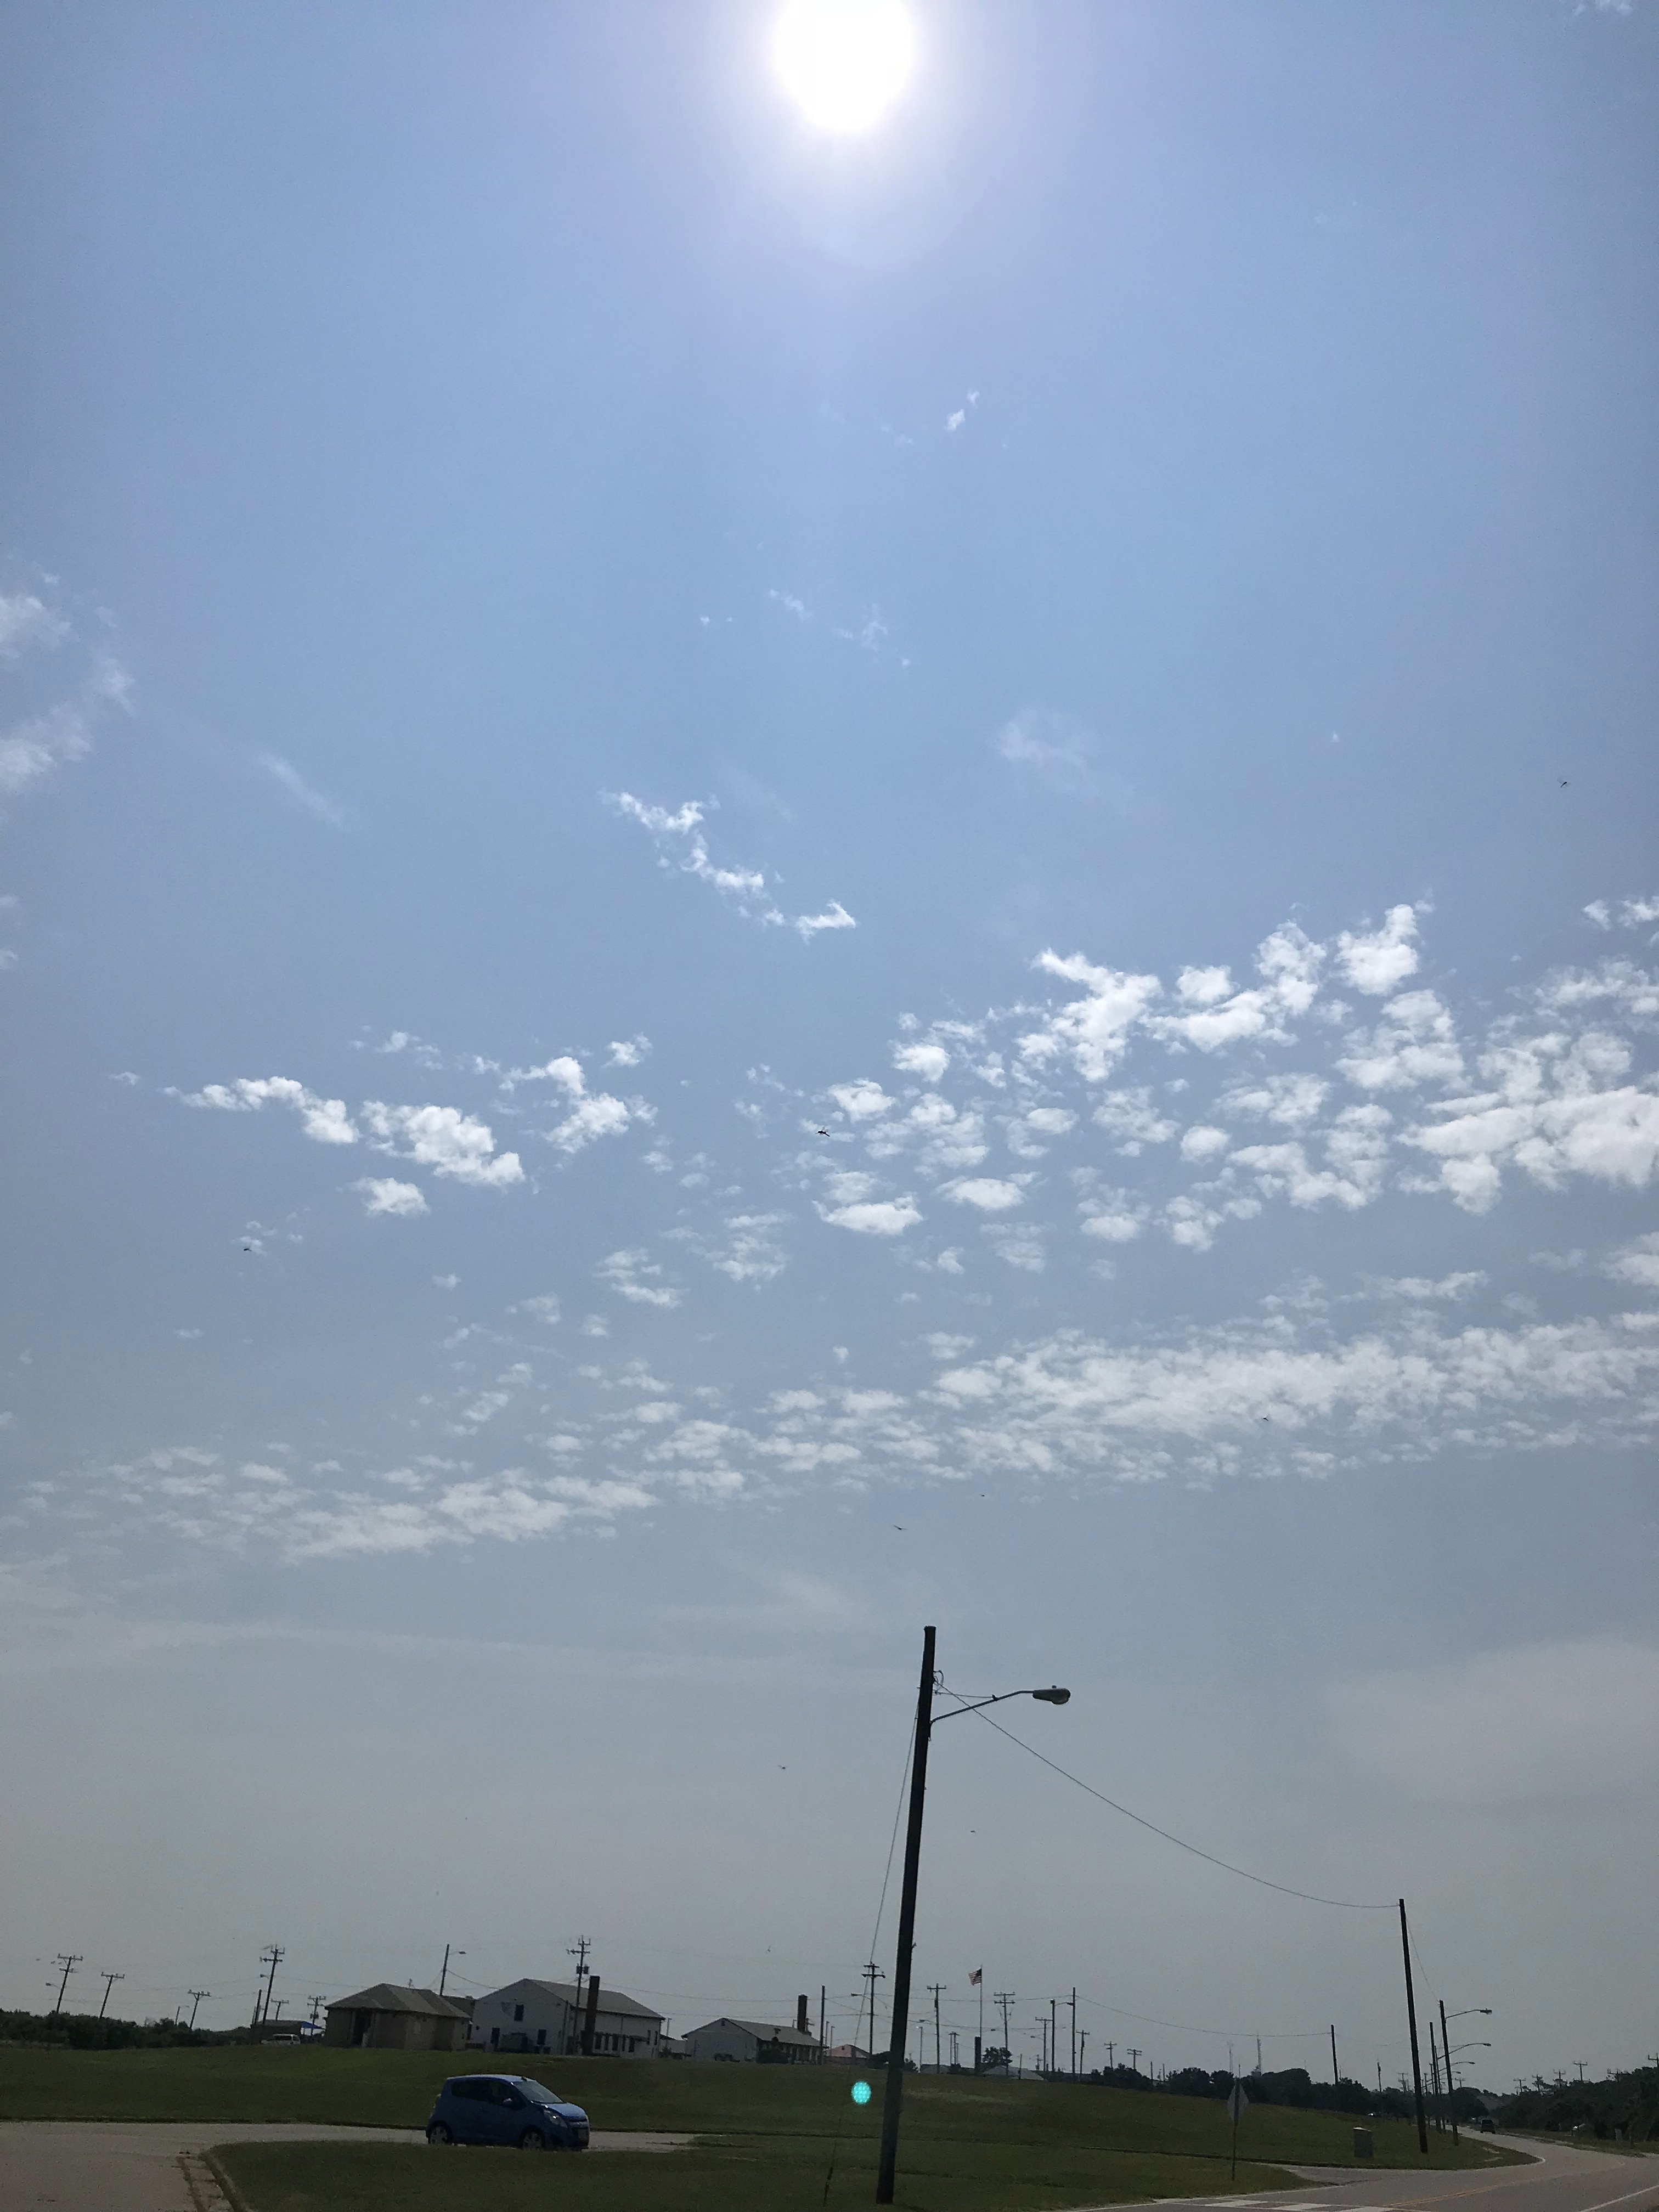flare: (849, 2080, 875, 2107)
